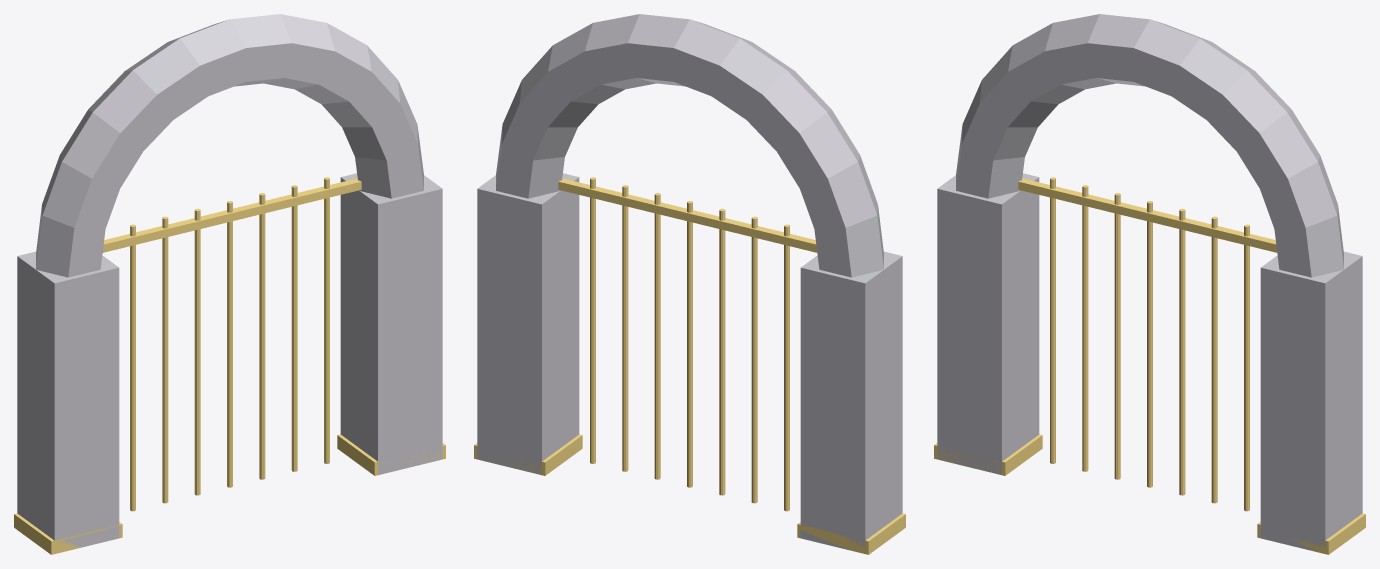
File: SM_Heaven_PearlyGate.glb
3 renders of one model, left to right at view 1: azimuth 30°, elevation 25°; view 2: azimuth 150°, elevation 25°; view 3: azimuth 330°, elevation 25°, orthographic.
Parts seen in each view (by area): view 1: SM_Heaven_PearlyGate; view 2: SM_Heaven_PearlyGate; view 3: SM_Heaven_PearlyGate.
Part boxes in pixels (x1,y1,x2,y2): SM_Heaven_PearlyGate: [14, 14, 445, 554]; SM_Heaven_PearlyGate: [474, 14, 905, 554]; SM_Heaven_PearlyGate: [934, 14, 1365, 554].
Size of the model in its own units: 6.1 by 7 by 1.
